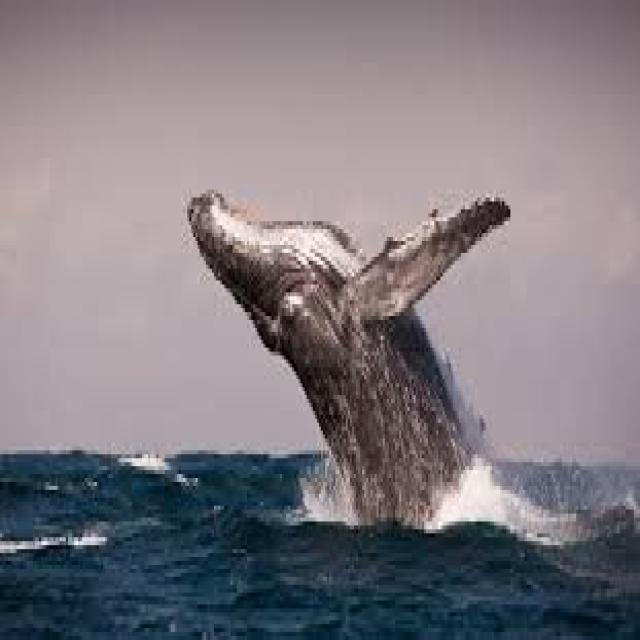whale: (187, 190, 508, 521)
